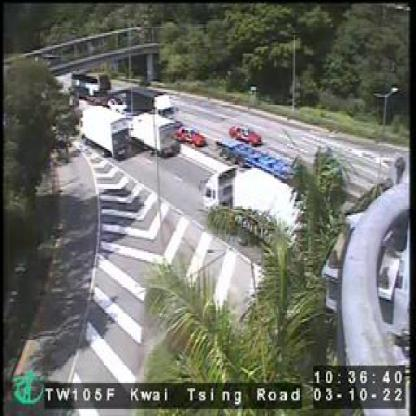Bus: (70, 71, 111, 104)
Car: (230, 123, 261, 146), (176, 124, 206, 146)
Truck: (201, 161, 303, 255), (107, 97, 178, 153), (78, 104, 130, 156)
